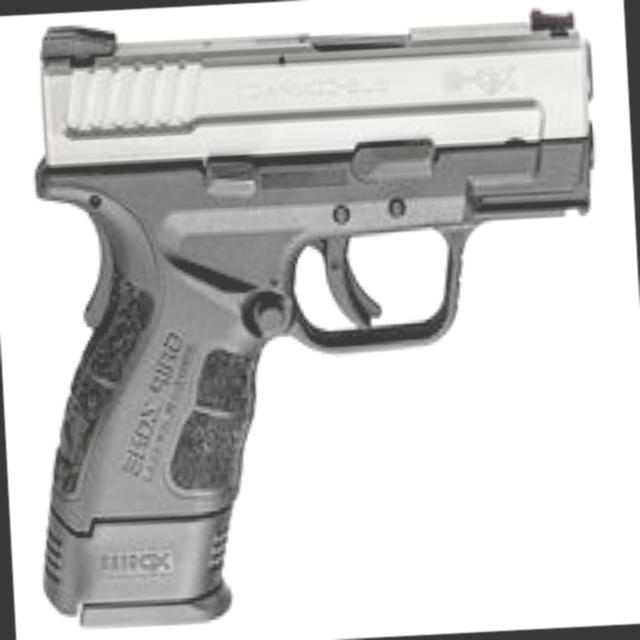semi automatic: (4, 0, 634, 640)
